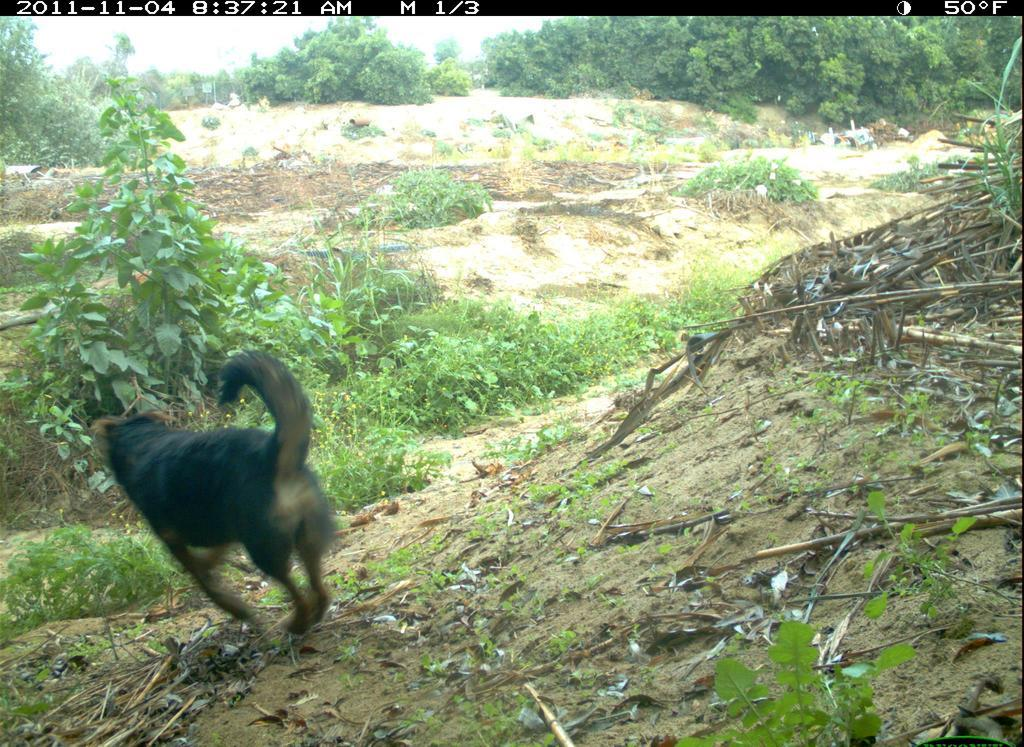dog: (88, 344, 341, 658)
